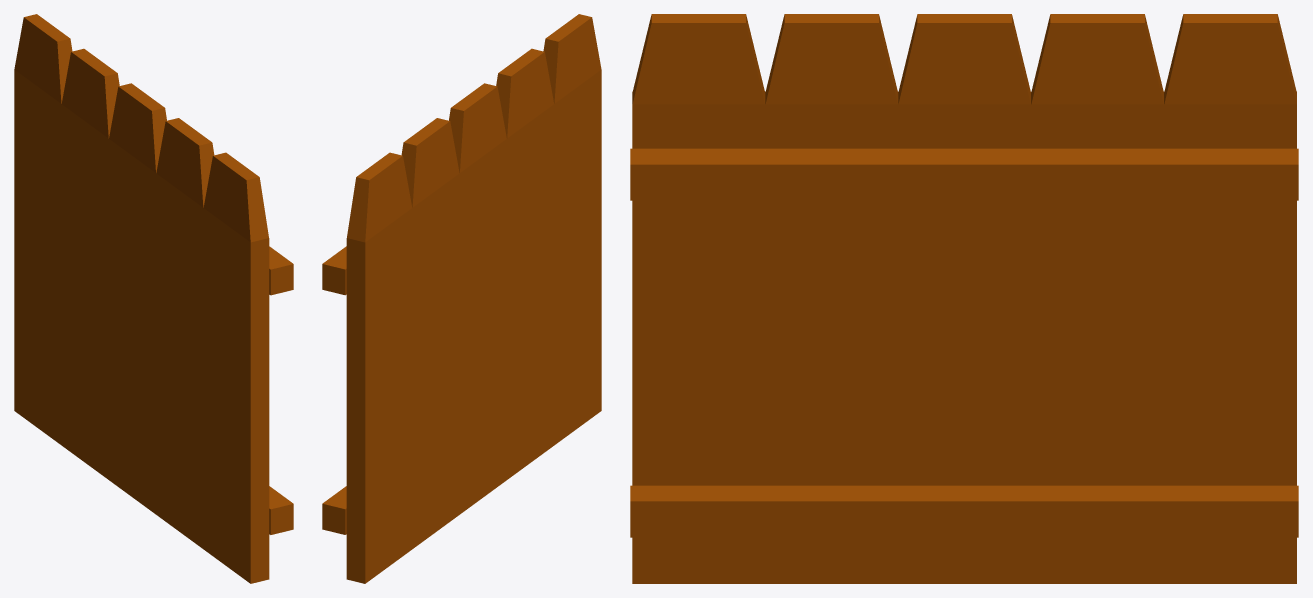
The model's file is FencePost.fbx.
The picture shows the model from 3 angles, left to right: view 1: azimuth 30°, elevation 25°; view 2: azimuth 150°, elevation 25°; view 3: azimuth 270°, elevation 25°; orthographic projection. The views are drawn at different scales.
Visible parts, largest first — view 1: Cube.001, Cube.003, Cube.002; view 2: Cube.001, Cube.003, Cube.002; view 3: Cube.001, Cube.003, Cube.002.
Boxes of the visible parts, bbox=[...] form: Cube.001: bbox=[14, 14, 269, 583]; Cube.003: bbox=[269, 486, 293, 534]; Cube.002: bbox=[269, 246, 293, 295]; Cube.001: bbox=[346, 14, 601, 583]; Cube.003: bbox=[322, 486, 346, 534]; Cube.002: bbox=[322, 246, 346, 295]; Cube.001: bbox=[632, 14, 1296, 583]; Cube.003: bbox=[630, 485, 1298, 537]; Cube.002: bbox=[630, 148, 1298, 200].
Bounding box in the file's own units: 103 × 928 × 1006.
